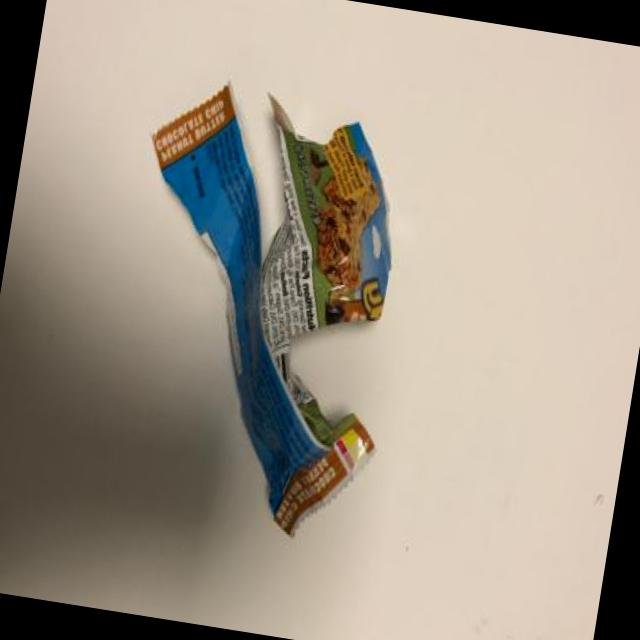bao_bi_thuc_pham: (152, 83, 393, 539)
